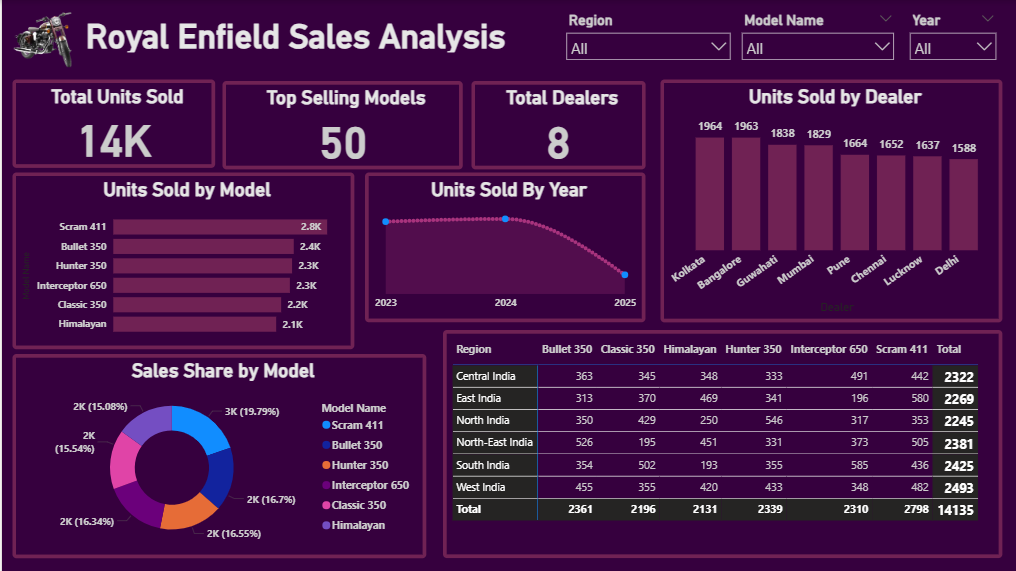

Layout of this report page (visuals, bound fields, positions):
{"tool":"powerbi","page":{"name":"Page 1","canvas":[1280,720],"ordinal":0},"visuals":[{"type":"shape","title":"Royal Enfield Sales Analysis","box":[105.8,20.8,534.8,45.4],"z":0},{"type":"card","title":"Total Units Sold","fields":{"Values":["Sum(Sales_Data1.Units Sold)"]},"box":[13.2,100.2,255.1,111.5],"z":1000},{"type":"card","title":"Top Selling Models","fields":{"Values":["Sales_Data1.Top Selling Model"]},"box":[277.8,102,302.4,111.5],"z":2000},{"type":"card","title":"Total Dealers","fields":{"Values":["Count(Sales_Data1.Dealer)"]},"box":[591.5,102,219.2,111.5],"z":3000},{"type":"lineChart","title":"Units Sold By Year","fields":{"Category":["Sales_Data1.Year"],"Y":["Sum(Sales_Data1.Units Sold)"]},"box":[457.3,217.3,353.4,189],"z":4000},{"type":"slicer","fields":{"Values":["Sales_Data1.Region"]},"box":[701.1,9.4,226.8,68],"z":5000},{"type":"slicer","fields":{"Values":["Sales_Data1.Model Name"]},"box":[922.2,9.4,211.7,68],"z":6000},{"type":"slicer","fields":{"Values":["Sales_Data1.Year"]},"box":[1134.5,10.1,128.5,68],"z":7000},{"type":"barChart","title":"Units Sold by Model","fields":{"Y":["Sum(Sales_Data1.Units Sold)"],"Category":["Sales_Data1.Model Name"]},"box":[13.2,217.3,430.9,223],"z":8000},{"type":"donutChart","title":"Sales Share by Model","fields":{"Y":["Sum(Sales_Data1.Units Sold)"],"Category":["Sales_Data1.Model Name"]},"box":[13.2,446,521.6,257],"z":9000},{"type":"pivotTable","fields":{"Values":["Sum(Sales_Data1.Units Sold)"],"Rows":["Sales_Data1.Region"],"Columns":["Sales_Data1.Model Name"]},"box":[555.6,415.8,704.9,287.2],"z":10000},{"type":"columnChart","title":"Units Sold by Dealer","fields":{"Category":["Sales_Data1.Dealer"],"Y":["Sum(Sales_Data1.Units Sold)"]},"box":[829.6,100.2,430.9,306.1],"z":11000},{"type":"image","box":[9.4,0,83.2,100.2],"z":11001}]}

Visuals, with their boxes in screenshot pixels (x1, y1, x2, y2), scaled from the page's 1280x720 canvas onto the 1016x571 screenshot:
"Royal Enfield Sales Analysis" shape: rect(84, 16, 508, 53)
"Total Units Sold" card: rect(10, 79, 213, 168)
"Top Selling Models" card: rect(221, 81, 461, 169)
"Total Dealers" card: rect(470, 81, 643, 169)
"Units Sold By Year" lineChart: rect(363, 172, 643, 322)
slicer - Sales_Data1.Region: rect(556, 7, 737, 61)
slicer - Sales_Data1.Model Name: rect(732, 7, 900, 61)
slicer - Sales_Data1.Year: rect(901, 8, 1003, 62)
"Units Sold by Model" barChart: rect(10, 172, 353, 349)
"Sales Share by Model" donutChart: rect(10, 354, 424, 558)
pivotTable - Sum(Sales_Data1.Units Sold) x Sales_Data1.Region: rect(441, 330, 1001, 558)
"Units Sold by Dealer" columnChart: rect(658, 79, 1001, 322)
image: rect(7, 0, 74, 79)
